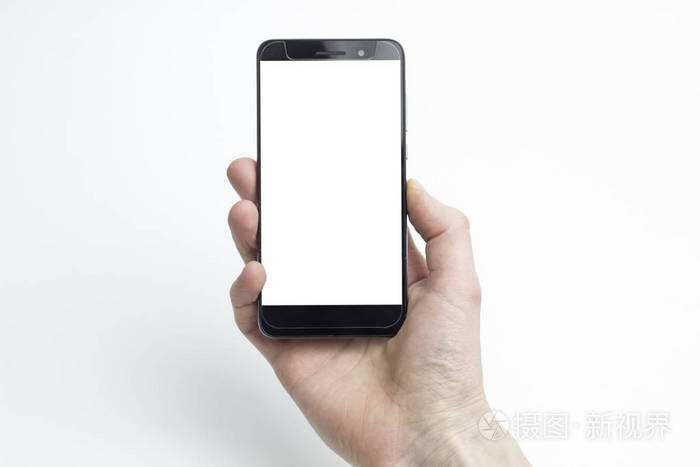phone: (213, 30, 493, 456)
